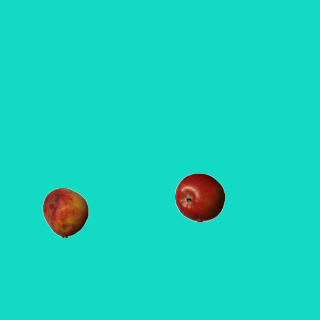Apple Braeburn: (174, 172, 224, 222)
Peach: (40, 187, 90, 237)
